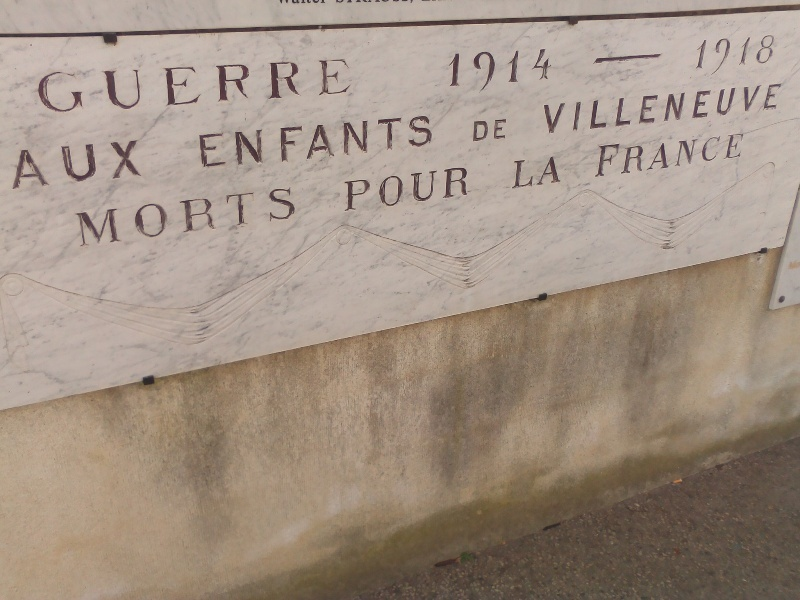text: (81, 187, 96, 251), (97, 187, 112, 251), (113, 187, 128, 251), (129, 187, 144, 251), (145, 187, 160, 251), (161, 187, 176, 251), (177, 187, 192, 251), (193, 187, 208, 251), (209, 187, 224, 251), (225, 187, 240, 251), (241, 187, 256, 251), (257, 187, 272, 251), (273, 187, 288, 251), (209, 111, 224, 174), (225, 111, 240, 174), (241, 111, 256, 174), (257, 111, 272, 174), (273, 111, 288, 174), (289, 111, 304, 174), (305, 111, 320, 174), (321, 111, 336, 174), (337, 111, 352, 174), (353, 111, 368, 174), (369, 111, 384, 174), (385, 111, 400, 174), (401, 111, 416, 174), (417, 111, 432, 174), (49, 56, 64, 117), (65, 56, 80, 117), (81, 56, 96, 117), (97, 56, 112, 117), (113, 56, 128, 117), (129, 56, 144, 117), (145, 56, 160, 117), (161, 56, 176, 117), (177, 56, 192, 117), (193, 56, 208, 117), (209, 56, 224, 117), (225, 56, 240, 117), (241, 56, 256, 117), (257, 56, 272, 117), (273, 56, 288, 117), (289, 56, 304, 117), (305, 56, 320, 117), (321, 56, 336, 117), (337, 56, 352, 117), (195, 111, 208, 174), (545, 82, 560, 136), (561, 82, 576, 136), (577, 82, 592, 136), (593, 82, 608, 136), (609, 82, 624, 136), (625, 82, 640, 136), (641, 82, 656, 136), (657, 82, 672, 136), (673, 82, 688, 136), (689, 82, 704, 136), (705, 82, 720, 136), (721, 82, 736, 136), (737, 82, 752, 136), (753, 82, 768, 136), (449, 45, 464, 97), (465, 45, 480, 97), (481, 45, 496, 97), (497, 45, 512, 97), (513, 45, 528, 97), (529, 45, 544, 97), (17, 140, 32, 192), (33, 140, 48, 192), (49, 140, 64, 192), (65, 140, 80, 192), (81, 140, 96, 192), (97, 140, 112, 192), (113, 140, 128, 192), (609, 129, 624, 179), (625, 129, 640, 179), (641, 129, 656, 179), (657, 129, 672, 179), (673, 129, 688, 179), (689, 129, 704, 179), (705, 129, 720, 179), (721, 129, 736, 179), (129, 140, 143, 192), (353, 166, 368, 213), (369, 166, 384, 213), (385, 166, 400, 213), (401, 166, 416, 213), (417, 166, 432, 213), (433, 166, 448, 213), (449, 166, 464, 213), (769, 82, 782, 136), (705, 34, 720, 79), (721, 34, 736, 79), (737, 34, 752, 79), (753, 34, 768, 79), (289, 187, 299, 251), (769, 34, 783, 79), (38, 56, 48, 117), (596, 129, 608, 179), (692, 34, 704, 79), (529, 155, 544, 190), (545, 155, 560, 190), (545, 45, 555, 97), (514, 155, 528, 190), (343, 166, 352, 213), (737, 129, 745, 179), (481, 119, 496, 143), (497, 119, 509, 143), (76, 187, 80, 251), (472, 119, 480, 143), (465, 166, 469, 213), (13, 140, 16, 192), (433, 111, 435, 174), (353, 56, 355, 117), (446, 45, 448, 97), (789, 261, 800, 270), (561, 155, 563, 190), (543, 82, 544, 136)
